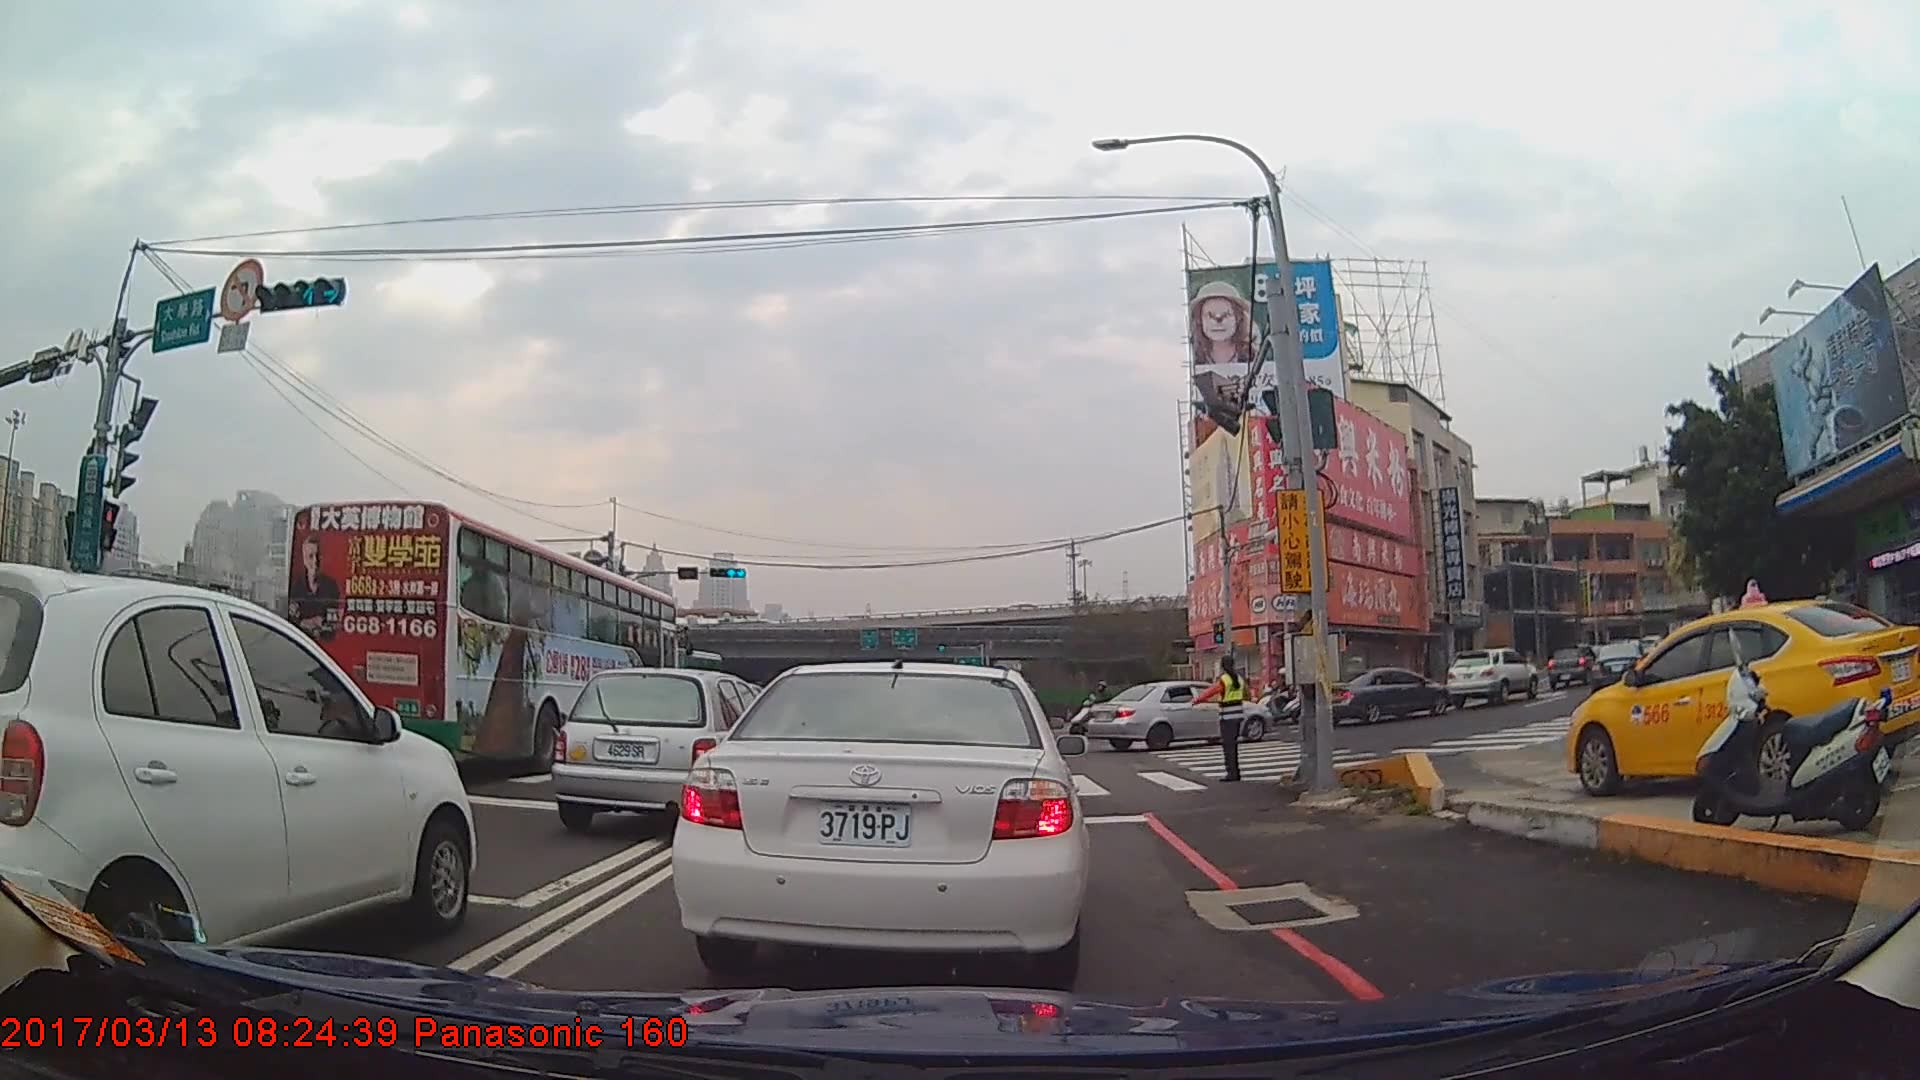pedestrian: (1208, 657, 1251, 785)
rider: (1072, 682, 1134, 738), (1253, 667, 1302, 725)
vehicle: (0, 561, 474, 999), (670, 660, 1087, 986), (283, 501, 687, 778), (1562, 598, 1920, 797), (549, 667, 791, 837), (1083, 679, 1269, 750), (1318, 665, 1448, 725), (1446, 646, 1539, 708), (1588, 638, 1654, 699), (1548, 643, 1601, 689)
